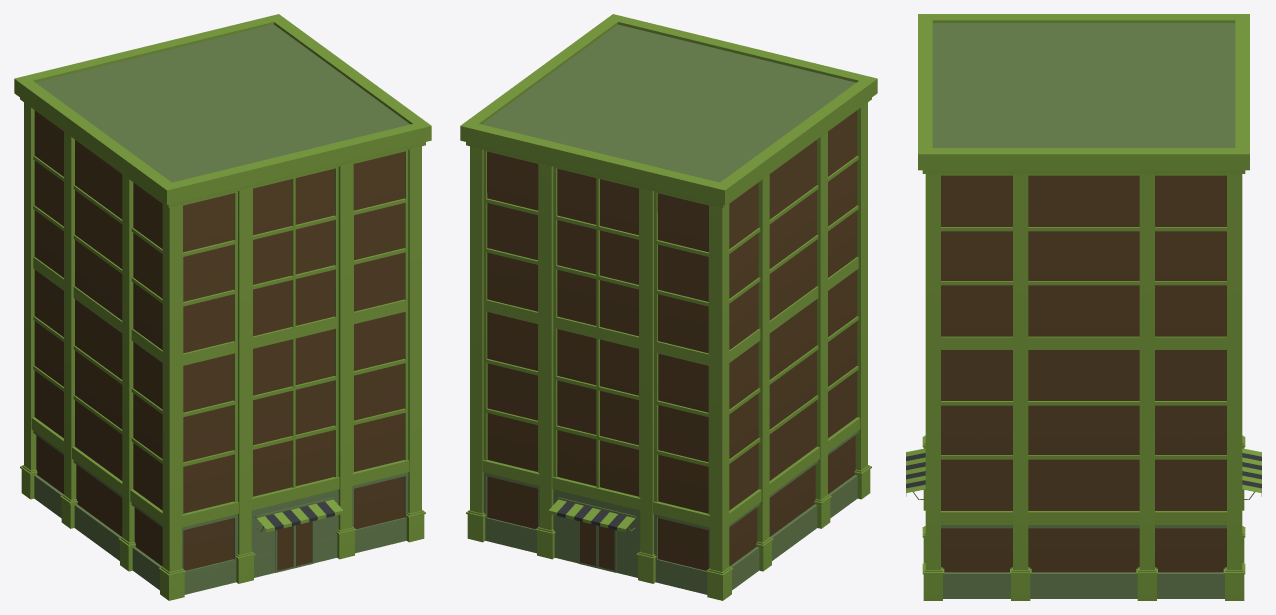
Rendered from House_24.fbx.
3 views of the same model, side by side, from view 1: azimuth 30°, elevation 25°; view 2: azimuth 150°, elevation 25°; view 3: azimuth 270°, elevation 25° (orthographic). The views are drawn at different scales.
Visible parts, largest first — view 1: House_24; view 2: House_24; view 3: House_24.
Boxes of the visible parts, x1,y1,x2,y2 form: House_24: (14, 14, 431, 600); House_24: (460, 14, 877, 600); House_24: (906, 14, 1261, 600).
Bounding box in the file's own units: 12.06 × 18 × 12.93.
